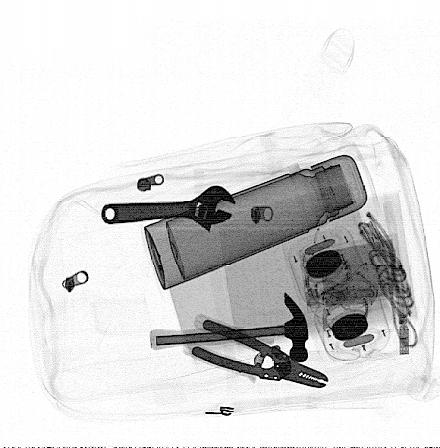Hammer: (150, 293, 309, 362)
Pliers: (183, 313, 329, 389)
Powerbank: (301, 232, 407, 312)
Wrench: (99, 185, 237, 235)
